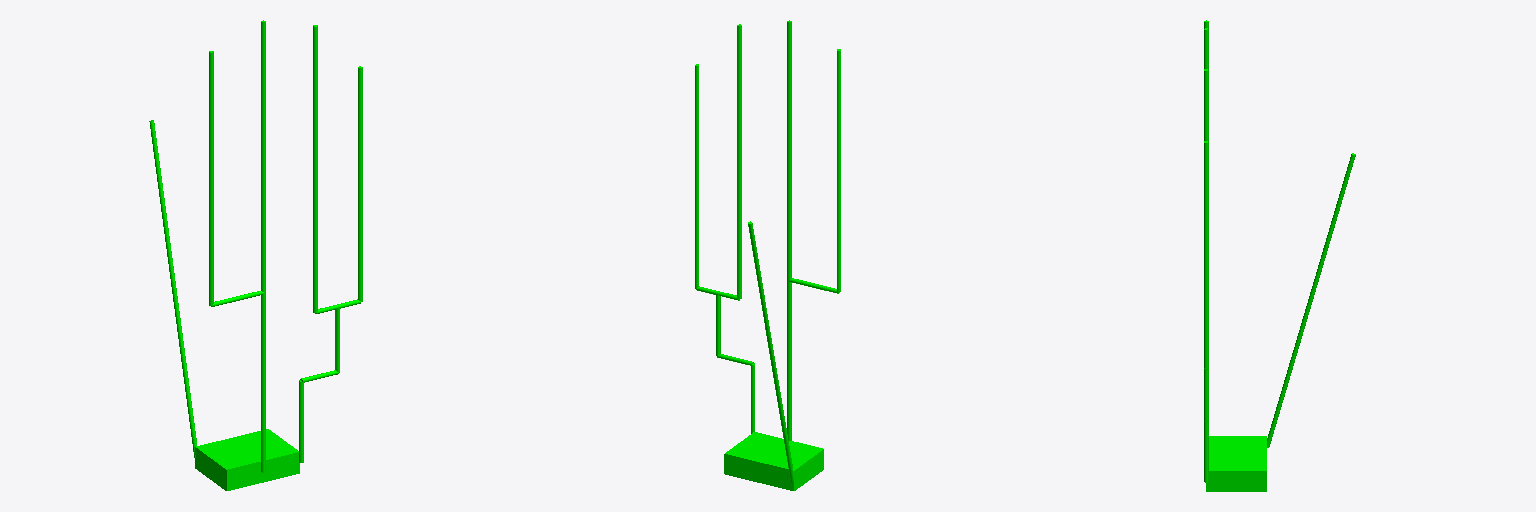
robot.urdf — s5fs:
<robot name="s5fs">
    <!-- BASE_LINE LINKS -->
    <link name="base_link">
        <visual>
            <origin rpy="0 0 0" xyz="0 0.01313 0" />
            <geometry>
                <box size="0.0353 0.02626 0.010" />
            </geometry>
            <material name="green">
                <color rgba="0 1 0 1" />
            </material>
        </visual>
    </link>
    <link name="d">
        <visual>
            <origin rpy="0 0 0" xyz="0 0 0.055" />
            <geometry>
                <cylinder length="0.110" radius="0.001" />
            </geometry>
            <material name="green" />
        </visual>
    </link>
    <link name="h">
        <visual>
            <origin rpy="0 1.571 0" xyz="-0.0125 0 0.0825" />
            <geometry>
                <cylinder length="0.025" radius="0.001" />
            </geometry>
            <material name="green" />
        </visual>
    </link>
    <link name="d2">
        <visual>
            <origin rpy="0 0 0" xyz="-0.025 0 0.09625" />
            <geometry>
                <cylinder length="0.0275" radius="0.001" />
            </geometry>
            <material name="green" />
        </visual>
    </link>
    <!-- LENGTH NOT FOUND IN DATASHEET! GUESSED!!! -->
    <link name="e1">
        <visual>
            <origin rpy="0 0 0" xyz="0.01840 0 0.01875" />
            <geometry>
                <cylinder length="0.0375" radius="0.001" />
            </geometry>
            <material name="green" />
        </visual>
    </link>
    <!-- LENGTH NOT FOUND IN DATASHEET! GUESSED!!! -->
    <link name="e2">
        <visual>
            <origin rpy="0 1.571 0" xyz="0.00875 0 0" />
            <geometry>
                <cylinder length="0.0175" radius="0.001" />
            </geometry>
            <material name="green" />
        </visual>
    </link>
    <!-- LENGTH NOT FOUND IN DATASHEET! GUESSED!!! -->
    <link name="e3">
        <visual>
            <origin rpy="0 0 0" xyz="0.0175 0 0.015" />
            <geometry>
                <cylinder length="0.03" radius="0.001" />
            </geometry>
            <material name="green" />
        </visual>
    </link>
    <link name="e">
        <visual>
            <origin rpy="0 1.571 0" xyz="0.0175 0 0.03" />
            <geometry>
                <cylinder length="0.0215" radius="0.001" />
            </geometry>
            <material name="green" />
        </visual>
    </link>
    <!-- LENGTH NOT FOUND IN DATASHEET! GUESSED, BUT POSITION CALCULATED: E4 = D-G-F!!! -->
    <link name="e4">
        <visual>
            <origin rpy="0 0 0" xyz="0.02825 0 0.043" />
            <geometry>
                <cylinder length="0.026" radius="0.001" />
            </geometry>
            <material name="green" />
        </visual>
    </link>
    <!-- LENGTH NOT FOUND IN DATASHEET! GUESSED, BUT POSITION CALCULATED: E5 = D-G!!! -->
    <link name="e5">
        <visual>
            <origin rpy="0 0 0" xyz="0.00675 0 0.04775" />
            <geometry>
                <cylinder length="0.0355" radius="0.001" />
            </geometry>
            <material name="green" />
        </visual>
    </link>


    <!-- THUMB LINKS -->
    <link name="z">
        <visual>
            <origin rpy="0 0 0" xyz="0 0 0.02298" />
            <geometry>
                <cylinder length="0.04596" radius="0.001" />
            </geometry>
            <material name="green" />
        </visual>
    </link>
    <link name="a">
        <visual>
            <origin rpy="0 0 0" xyz="0 0 0.02425" />
            <geometry>
                <cylinder length="0.0485" radius="0.001" />
            </geometry>
            <material name="green" />
        </visual>
    </link>
    <link name="b">
        <visual>
            <origin rpy="0 0 0" xyz="0 0 0.015" />
            <geometry>
                <cylinder length="0.030" radius="0.001" />
            </geometry>
            <material name="green" />
        </visual>
    </link>
    <link name="c">
        <visual>
            <origin rpy="0 0 0" xyz="0 0 0.010" />
            <geometry>
                <cylinder length="0.020" radius="0.001" />
            </geometry>
            <material name="green" />
        </visual>
    </link>


    <!-- FOREFINGER LINKS -->
    <link name="virtual_l">
        <visual>
            <origin rpy="0 0 0" xyz="0 0 0" />
            <geometry>
                <cylinder length="0" radius="0" />
            </geometry>
        </visual>
    </link>
    <link name="l">
        <visual>
            <origin rpy="0 0 0" xyz="0 0 0.02402" />
            <geometry>
                <cylinder length="0.04804" radius="0.001" />
            </geometry>
            <material name="green" />
        </visual>
    </link>
    <link name="p">
        <visual>
            <origin rpy="0 0 0" xyz="0 0 0.013" />
            <geometry>
                <cylinder length="0.026" radius="0.001" />
            </geometry>
            <material name="green" />
        </visual>
    </link>
    <link name="t">
        <visual>
            <origin rpy="0 0 0" xyz="0 0 0.0075" />
            <geometry>
                <cylinder length="0.015" radius="0.001" />
            </geometry>
            <material name="green" />
        </visual>
    </link>


    <!-- MIDDLE FINGER LINKS -->
    <link name="k">
        <visual>
            <origin rpy="0 0 0" xyz="0 0 0.02502" />
            <geometry>
                <cylinder length="0.05004" radius="0.001" />
            </geometry>
            <material name="green" />
        </visual>
    </link>
    <link name="o">
        <visual>
            <origin rpy="0 0 0" xyz="0 0 0.016" />
            <geometry>
                <cylinder length="0.032" radius="0.001" />
            </geometry>
            <material name="green" />
        </visual>
    </link>
    <link name="s">
        <visual>
            <origin rpy="0 0 0" xyz="0 0 0.0075" />
            <geometry>
                <cylinder length="0.015" radius="0.001" />
            </geometry>
            <material name="green" />
        </visual>
    </link>


    <!-- RING FINGER LINKS -->
    <link name="virtual_j">
        <visual>
            <origin rpy="0 0 0" xyz="0.006625 0 0" />
            <geometry>
                <cylinder length="0" radius="0" />
            </geometry>
        </visual>
    </link>
    <link name="j">
        <visual>
            <origin rpy="0 0 0" xyz="0 0 0.02502" />
            <geometry>
                <cylinder length="0.05004" radius="0.001" />
            </geometry>
            <material name="green" />
        </visual>
    </link>
    <link name="n">
        <visual>
            <origin rpy="0 0 0" xyz="0 0 0.01525" />
            <geometry>
                <cylinder length="0.032" radius="0.001" />
            </geometry>
            <material name="green" />
        </visual>
    </link>
    <link name="r">
        <visual>
            <origin rpy="0 0 0" xyz="0 0 0.00675" />
            <geometry>
                <cylinder length="0.015" radius="0.001" />
            </geometry>
            <material name="green" />
        </visual>
    </link>


    <!-- LITTLE FINGER LINKS -->
    <link name="virtual_i">
        <visual>
            <origin rpy="0 0 0" xyz="0.02825 0 0" />
            <geometry>
                <cylinder length="0" radius="0" />
            </geometry>
        </visual>
    </link>
    <link name="i">
        <visual>
            <origin rpy="0 0 0" xyz="0 0 0.02227" />
            <geometry>
                <cylinder length="0.04454" radius="0.001" />
            </geometry>
            <material name="green" />
        </visual>
    </link>
    <link name="m">
        <visual>
            <origin rpy="0 0 0" xyz="0 0 0.011" />
            <geometry>
                <cylinder length="0.022" radius="0.001" />
            </geometry>
            <material name="green" />
        </visual>
    </link>
    <link name="q">
        <visual>
            <origin rpy="0 0 0" xyz="0 0 0.0075" />
            <geometry>
                <cylinder length="0.015" radius="0.001" />
            </geometry>
            <material name="green" />
        </visual>
    </link>






    <!-- BASE_LINE JOINTS -->
    <joint name="j1_wrist" type="revolute">
        <parent link="base_link" />
        <child link="z" />
        <limit effort="1000.0" lower="0.0" upper="0.9879" velocity="1" />
        <origin xyz="-0.01690 0.02626 0" rpy="0 0.2618 1.571" />
        <axis xyz="0 0 -1" />
    </joint>

    <joint name="j6b_spread" type="revolute">
        <parent link="virtual_l" />
        <child link="l" />
        <limit effort="1000.0" lower="0.0" upper="0.28833" velocity="1" />
        <origin xyz="0 0 0" rpy="0 0 0" />
        <axis xyz="0 -1 0" />
    </joint>


    <joint name="f1" type="fixed">
        <parent link="base_link" />
        <child link="d" />
        <origin xyz="0 0 0" rpy="0 0 0" />
    </joint>
    <joint name="f2" type="fixed">
        <parent link="d" />
        <child link="h" />
        <origin xyz="0 0 0" rpy="0 0 0" />
    </joint>
    <joint name="f3" type="fixed">
        <parent link="h" />
        <child link="d2" />
        <origin xyz="0 0 0" rpy="0 0 0" />
    </joint>
    <joint name="f4" type="fixed">
        <parent link="base_link" />
        <child link="e1" />
        <origin xyz="0 0 0" rpy="0 0 0" />
    </joint>
    <joint name="j5" type="revolute">
        <parent link="e1" />
        <child link="e2" />
        <limit effort="1000.0" lower="0.0" upper="0.98786" velocity="1" />
        <origin xyz="0.01840 0 0.0375" rpy="0 0 0" />
        <axis xyz="0 0 1" />
        <mimic joint="j1_wrist" multiplier="1" offset="0" />
    </joint>
    <joint name="f5" type="fixed">
        <parent link="e2" />
        <child link="e3" />
        <origin xyz="0 0 0" rpy="0 0 0" />
    </joint>
    <joint name="f6" type="fixed">
        <parent link="e3" />
        <child link="e" />
        <origin xyz="0 0 0" rpy="0 0 0" />
    </joint>
    <joint name="f7" type="fixed">
        <parent link="e" />
        <child link="e4" />
        <origin xyz="0 0 0" rpy="0 0 0" />
    </joint>
    <joint name="f8" type="fixed">
        <parent link="e" />
        <child link="e5" />
        <origin xyz="0 0 0" rpy="0 0 0" />
    </joint>


    <!-- THUMB JOINTS -->
    <joint name="j2_thumb" type="revolute">
        <parent link="z" />
        <child link="a" />
        <limit effort="1000.0" lower="0.0" upper="0.9704" velocity="1" />
        <origin xyz="0 0 0.04596" rpy="0 0 0" />
        <axis xyz="1 0 0" />
    </joint>
    <joint name="j3" type="revolute">
        <parent link="a" />
        <child link="b" />
        <limit effort="1000.0" lower="0.0" upper="0.98506" velocity="1" />
        <origin xyz="0 0 0.0485" rpy="0 0 0" />
        <axis xyz="1 0 0" />
        <mimic joint="j2_thumb" multiplier="1.01511" offset="0" />
    </joint>
    <joint name="j4" type="revolute">
        <parent link="b" />
        <child link="c" />
        <limit effort="1000.0" lower="0.0" upper="1.406" velocity="1" />
        <origin xyz="0 0 0.030" rpy="0 0 0" />
        <axis xyz="1 0 0" />
        <mimic joint="j2_thumb" multiplier="1.44889" offset="0" />
    </joint>


    <!-- FOREFINGER JOINTS -->
    <joint name="j6a_forefinger1" type="revolute">
        <parent link="d2" />
        <child link="virtual_l" />
        <limit effort="1000.0" lower="0.0" upper="0.79849" velocity="1" />
        <origin xyz="-0.025 0 0.110" rpy="0 0 0" />
        <axis xyz="-1 0 0" />
    </joint>
    <joint name="j10_forefinger2" type="revolute">
        <parent link="l" />
        <child link="p" />
        <limit effort="1000.0" lower="0" upper="1.334" velocity="1" />
        <origin xyz="0 0 0.04804" rpy="0 0 0" />
        <axis xyz="-1 0 0" />
    </joint>
    <joint name="j14" type="revolute">
        <parent link="p" />
        <child link="t" />
        <limit effort="1000.0" lower="0" upper="1.394" velocity="1" />
        <origin xyz="0 0 0.026" rpy="0 0 0" />
        <axis xyz="-1 0 0" />
        <mimic joint="j10_forefinger2" multiplier="1.0450" offset="0" />
    </joint>


    <!-- MIDDLE FINGER JOINTS -->
    <joint name="j7_middlefinger1" type="revolute">
        <parent link="d" />
        <child link="k" />
        <limit effort="1000.0" lower="0.0" upper="0.79849" velocity="1" />
        <origin xyz="0 0 0.110" rpy="0 0 0" />
        <axis xyz="-1 0 0" />
    </joint>
    <joint name="j11_middlefinger2" type="revolute">
        <parent link="k" />
        <child link="o" />
        <limit effort="1000.0" lower="0" upper="1.334" velocity="1" />
        <origin xyz="0 0 0.05004" rpy="0 0 0" />
        <axis xyz="-1 0 0" />
    </joint>
    <joint name="j15" type="revolute">
        <parent link="o" />
        <child link="s" />
        <limit effort="1000.0" lower="0" upper="1.334" velocity="1" />
        <origin xyz="0 0 0.032" rpy="0 0 0" />
        <axis xyz="-1 0 0" />
        <mimic joint="j11_middlefinger2" multiplier="1.000" offset="0" />
    </joint>


    <!-- RING FINGER JOINTS -->
    <joint name="j8a_ringfinger" type="revolute">
        <parent link="e5" />
        <child link="virtual_j" />
        <limit effort="1000.0" lower="0.0" upper="0.98175" velocity="1" />
        <origin xyz="0 0 0.0655" rpy="0 0 0" />
        <axis xyz="-1 0 0" />
    </joint>
    <joint name="j8b" type="revolute">
        <parent link="virtual_j" />
        <child link="j" />
        <limit effort="1000.0" lower="0.0" upper="0.28833" velocity="1" />
        <origin xyz="0.00675 0 0" rpy="0 0 0" />
        <axis xyz="0 1 0" />
        <mimic joint="j6b_spread" multiplier="1" offset="0" />
    </joint>
    <joint name="j12" type="revolute">
        <parent link="j" />
        <child link="n" />
        <limit effort="1000.0" lower="0" upper="1.334" velocity="1" />
        <origin xyz="0 0 0.05004" rpy="0 0 0" />
        <axis xyz="-1 0 0" />
        <mimic joint="j8a_ringfinger" multiplier="1.3588" offset="0" />
    </joint>
    <joint name="j16" type="revolute">
        <parent link="n" />
        <child link="r" />
        <limit effort="1000.0" lower="0" upper="1.395" velocity="1" />
        <origin xyz="0 0 0.032" rpy="0 0 0" />
        <axis xyz="-1 0 0" />
        <mimic joint="j8a_ringfinger" multiplier="1.42093" offset="0" />
    </joint>


    <!-- LITTLE FINGER JOINTS -->
    <joint name="j9a_littlefinger" type="revolute">
        <parent link="e4" />
        <child link="virtual_i" />
        <limit effort="1000.0" lower="0.0" upper="0.98175" velocity="1" />
        <origin xyz="0 0 0.056" rpy="0 0 0" />
        <axis xyz="-1 0 0" />
    </joint>
    <joint name="j9b" type="revolute">
        <parent link="virtual_i" />
        <child link="i" />
        <limit effort="1000.0" lower="0.0" upper="0.5829" velocity="1" />
        <origin xyz="0.02825 0 0" rpy="0 0 0" />
        <axis xyz="0 1 0" />
        <mimic joint="j6b_spread" multiplier="2.02164" offset="0" />
    </joint>
    <joint name="j13" type="revolute">
        <parent link="i" />
        <child link="m" />
        <limit effort="1000.0" lower="0" upper="1.334" velocity="1" />
        <origin xyz="0 0 0.04454" rpy="0 0 0" />
        <axis xyz="-1 0 0" />
        <mimic joint="j9a_littlefinger" multiplier="1.35880" offset="0" />
    </joint>
    <joint name="j17" type="revolute">
        <parent link="m" />
        <child link="q" />
        <limit effort="1000.0" lower="0" upper="1.3971" velocity="1" />
        <origin xyz="0 0 0.022" rpy="0 0 0" />
        <axis xyz="-1 0 0" />
        <mimic joint="j9a_littlefinger" multiplier="1.42307" offset="0" />
    </joint>
</robot>

--- What the picture shows (computed from the rendered views, not written in the file) ---
The picture shows the robot from 3 angles, left to right: view 1: azimuth 30°, elevation 25°; view 2: azimuth 150°, elevation 25°; view 3: azimuth 270°, elevation 25°; orthographic projection.
Model s5fs with 29 links and 28 joints (20 revolute, 8 fixed), rooted at base_link, posed every joint at zero.
Links seen in each view (by area): view 1: base_link, d, j, a, k; view 2: base_link, d; view 3: base_link.
Link boxes in pixels (box(x1,y1,x2,y2)): base_link: box(195, 429, 299, 490); d: box(261, 233, 265, 472); j: box(313, 127, 317, 235); a: box(165, 237, 184, 350); k: box(261, 124, 265, 233); base_link: box(724, 432, 823, 490); d: box(787, 223, 791, 440); base_link: box(1206, 436, 1266, 491).
Bounding box of the posed robot: 0.0737 × 0.0656 × 0.212 m (x, y, z).
Geometry: primitives only (box / cylinder / sphere), no mesh files.
